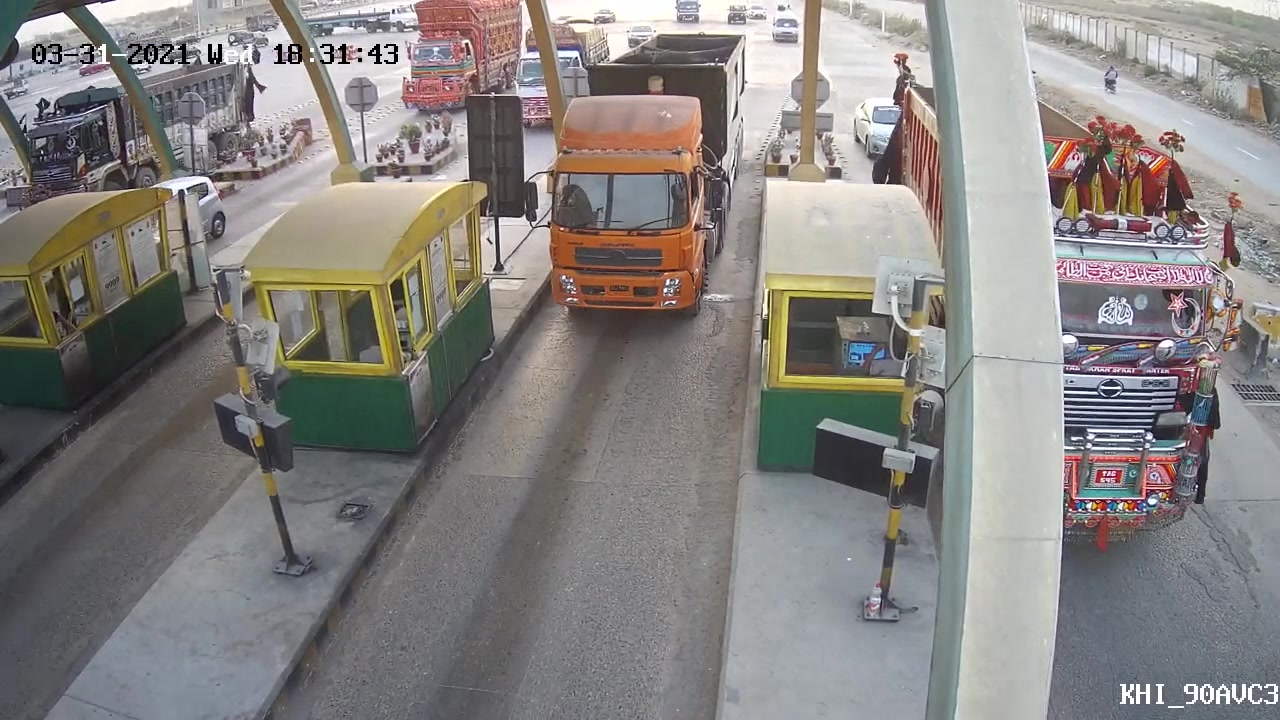F5: (521, 26, 762, 321)
